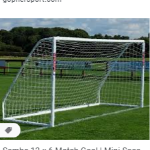goals: (2, 34, 146, 127)
